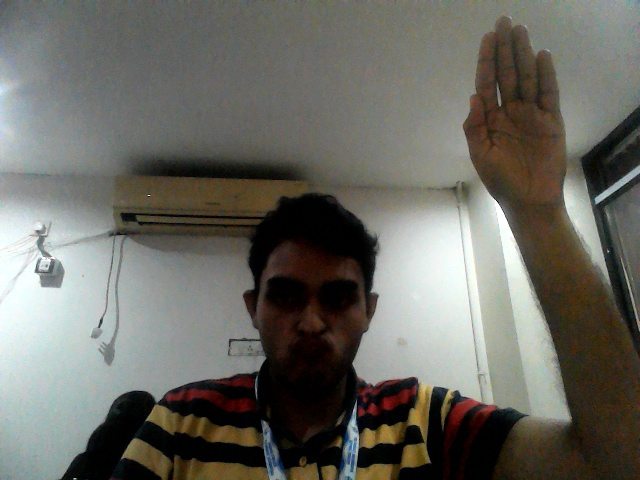palm: (457, 9, 575, 215)
